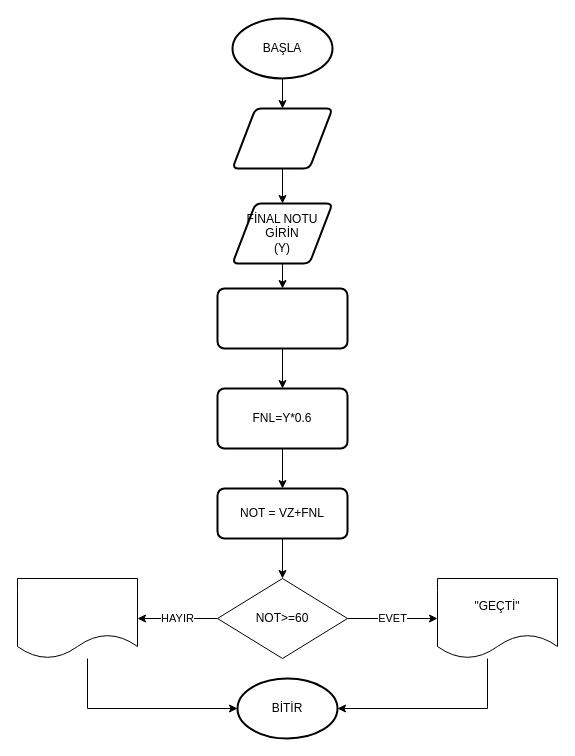
The diagram is 575 pixels wide and 756 high, and some of its shapes have lost their labels. Here are the shapes that lost their labels. From the top down, the centre of each, then its label:
pixel 282 138: VİZE NOTU GİRİN (X)
pixel 282 318: VZ=X*0.4
pixel 77 618: "KALDI"
